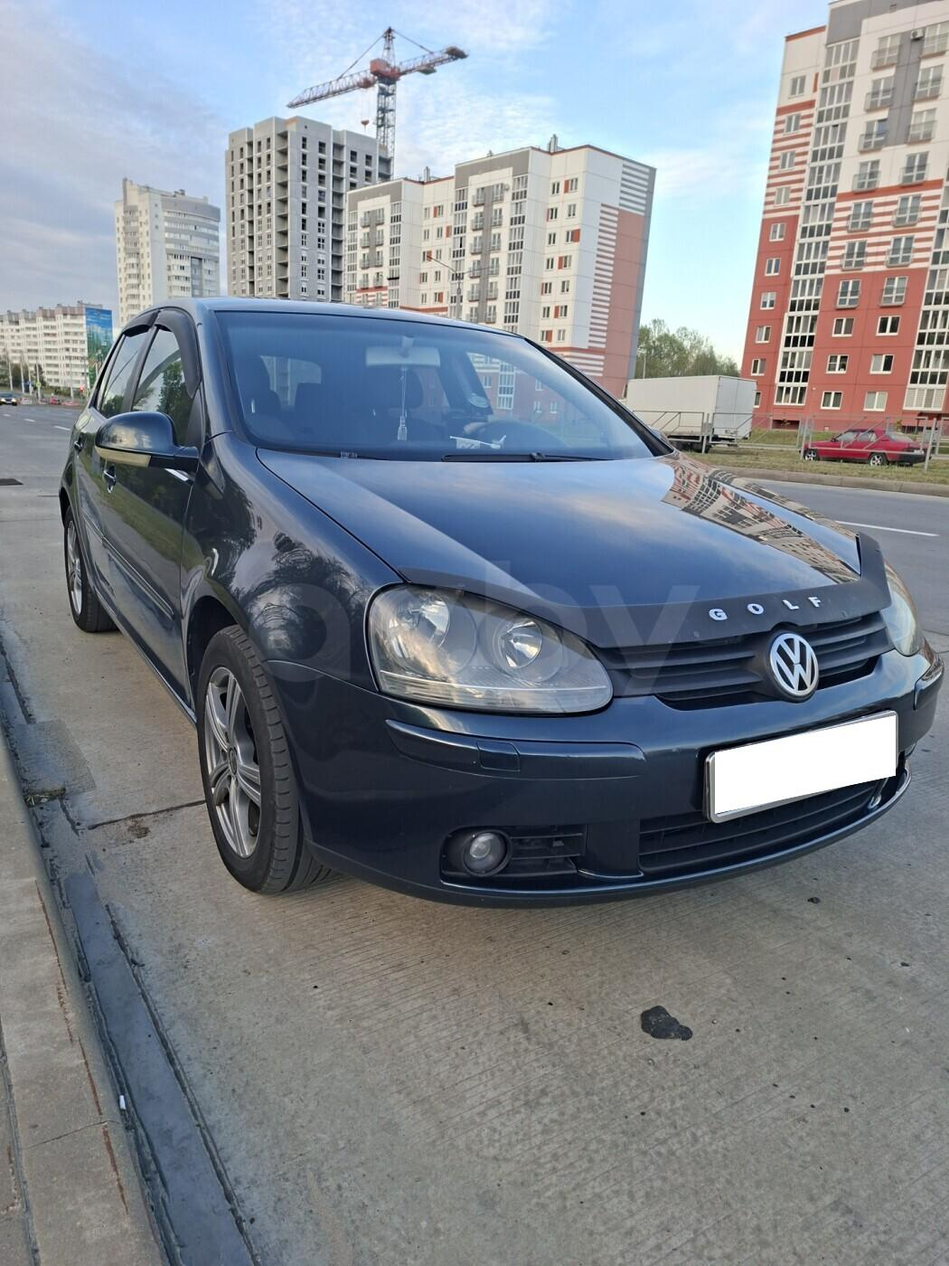Golf_2003-2009: (63, 283, 917, 910)
